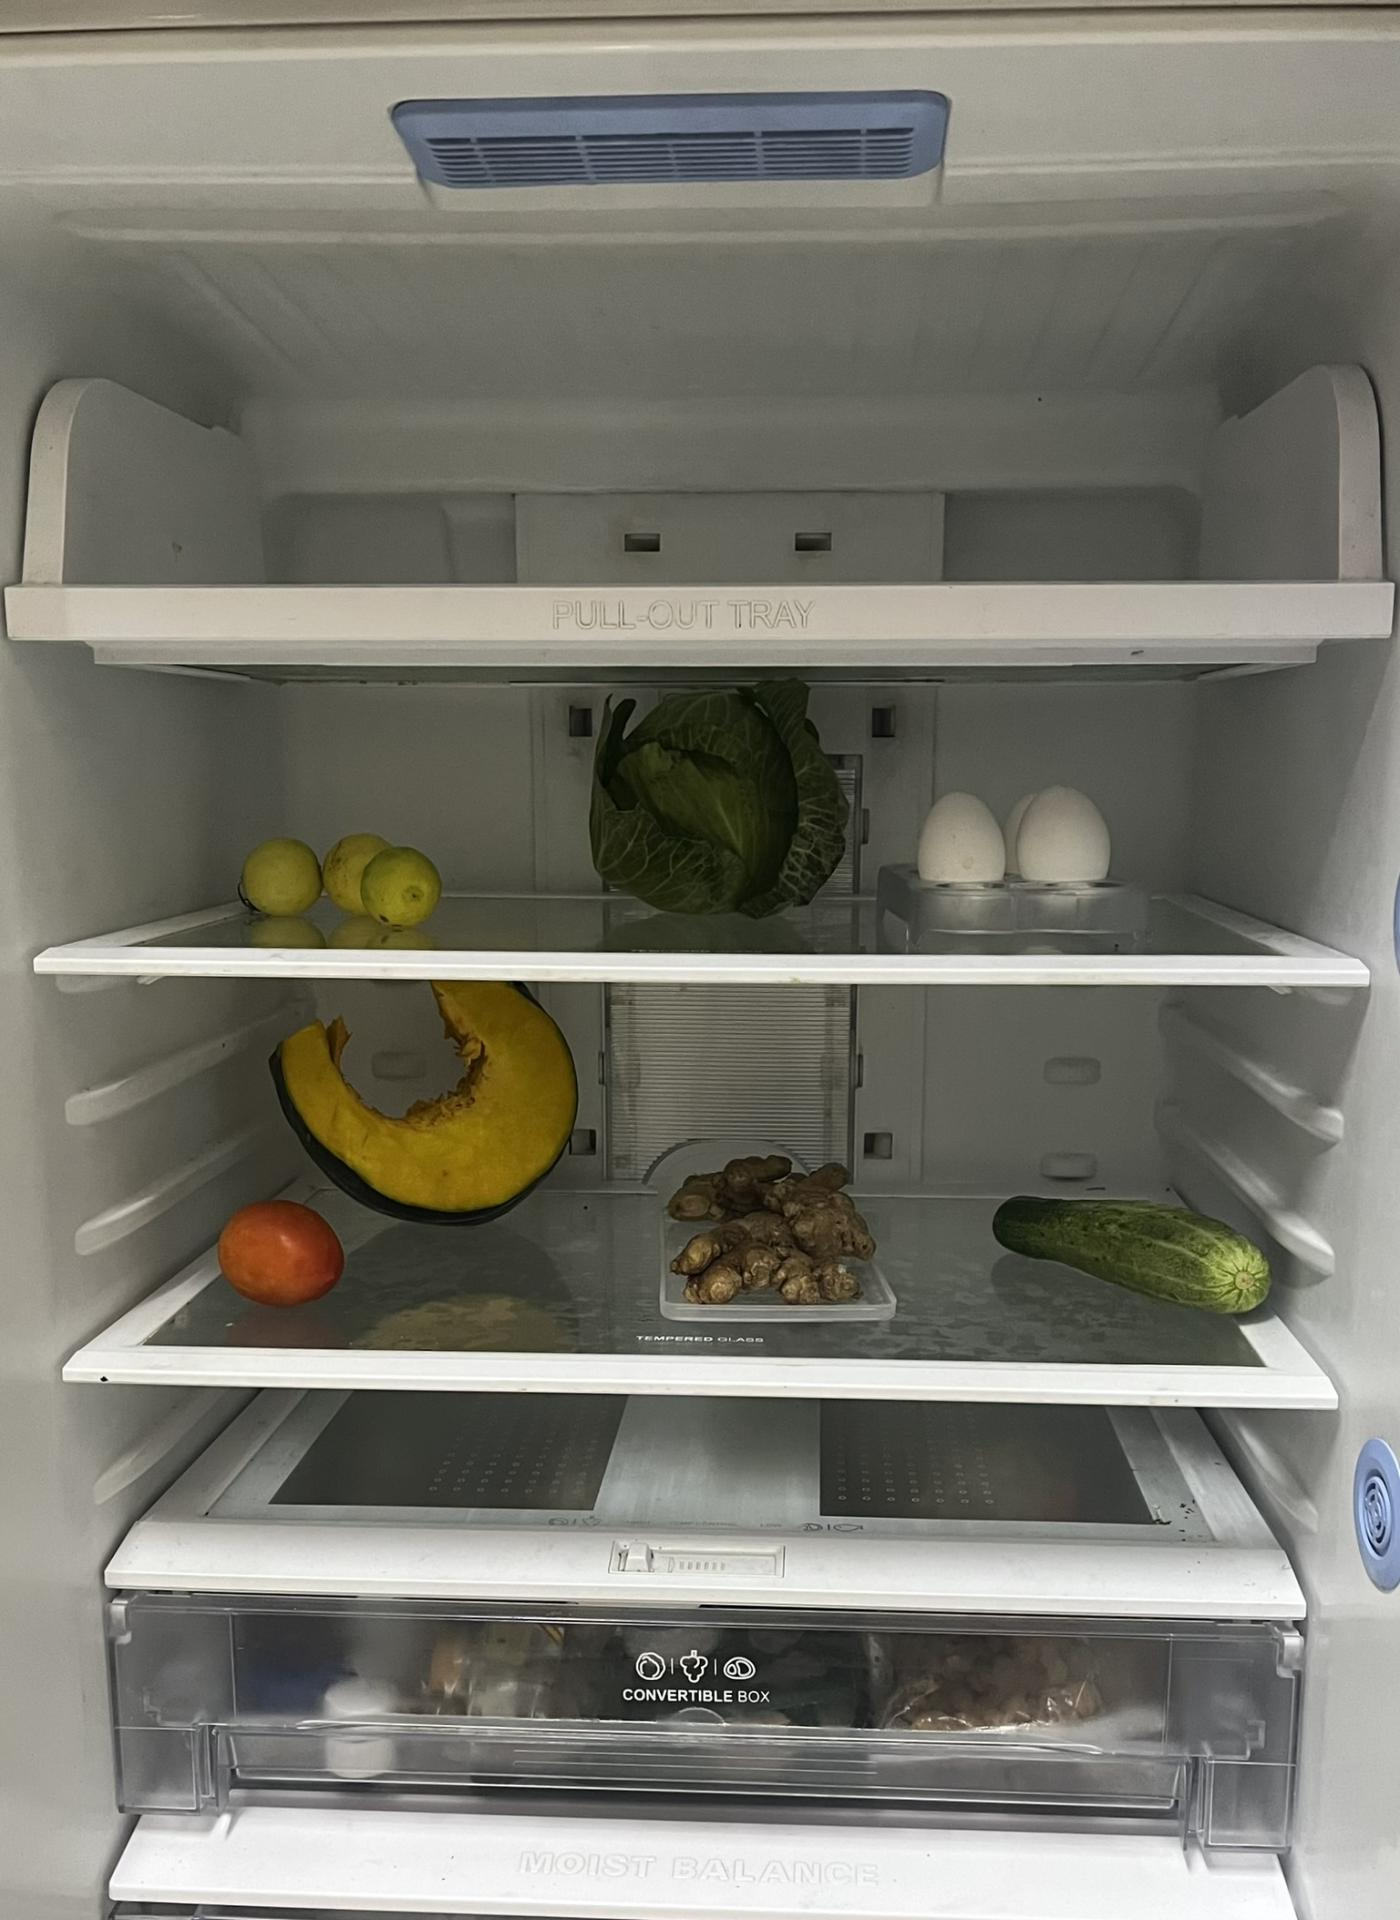cabbage: (583, 672, 863, 932)
cucumber: (987, 1191, 1273, 1325)
egg: (905, 778, 1115, 912)
ginger: (662, 1140, 884, 1309)
lemon: (228, 829, 450, 938)
pumpkin: (270, 972, 586, 1234)
tomato: (203, 1200, 355, 1312)
